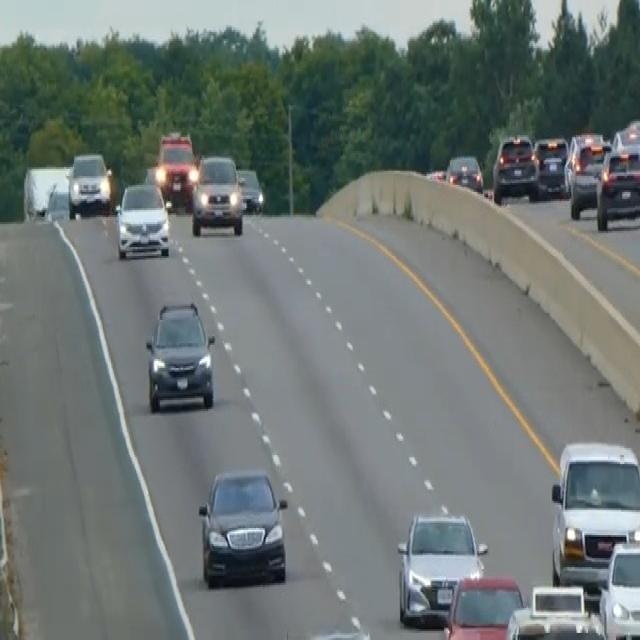car: (549, 438, 639, 590), (197, 464, 288, 588), (396, 508, 487, 626), (144, 297, 216, 412), (504, 582, 606, 638), (442, 572, 524, 638), (190, 151, 244, 237), (114, 180, 170, 260), (598, 537, 639, 638), (595, 139, 639, 229), (565, 130, 610, 218), (66, 149, 113, 219), (492, 132, 539, 202), (22, 163, 69, 220), (532, 134, 569, 198), (445, 151, 484, 192), (291, 622, 375, 638), (236, 166, 264, 213)
jeep: (154, 128, 198, 208)
